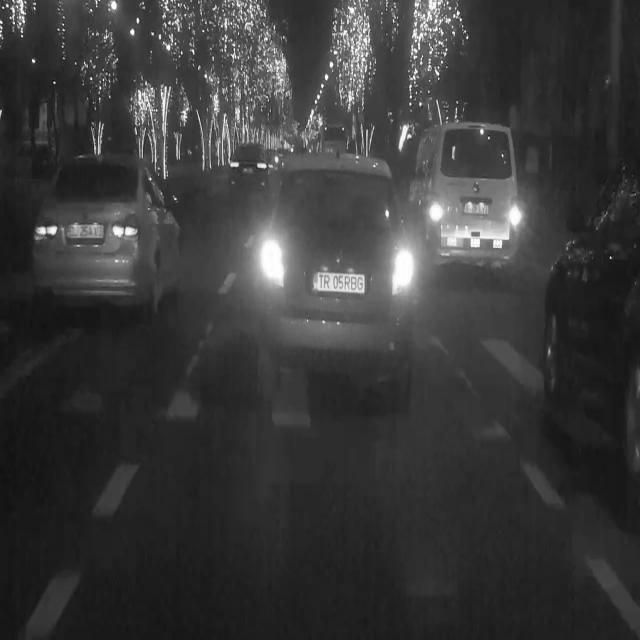licenseplate: (310, 267, 368, 297)
